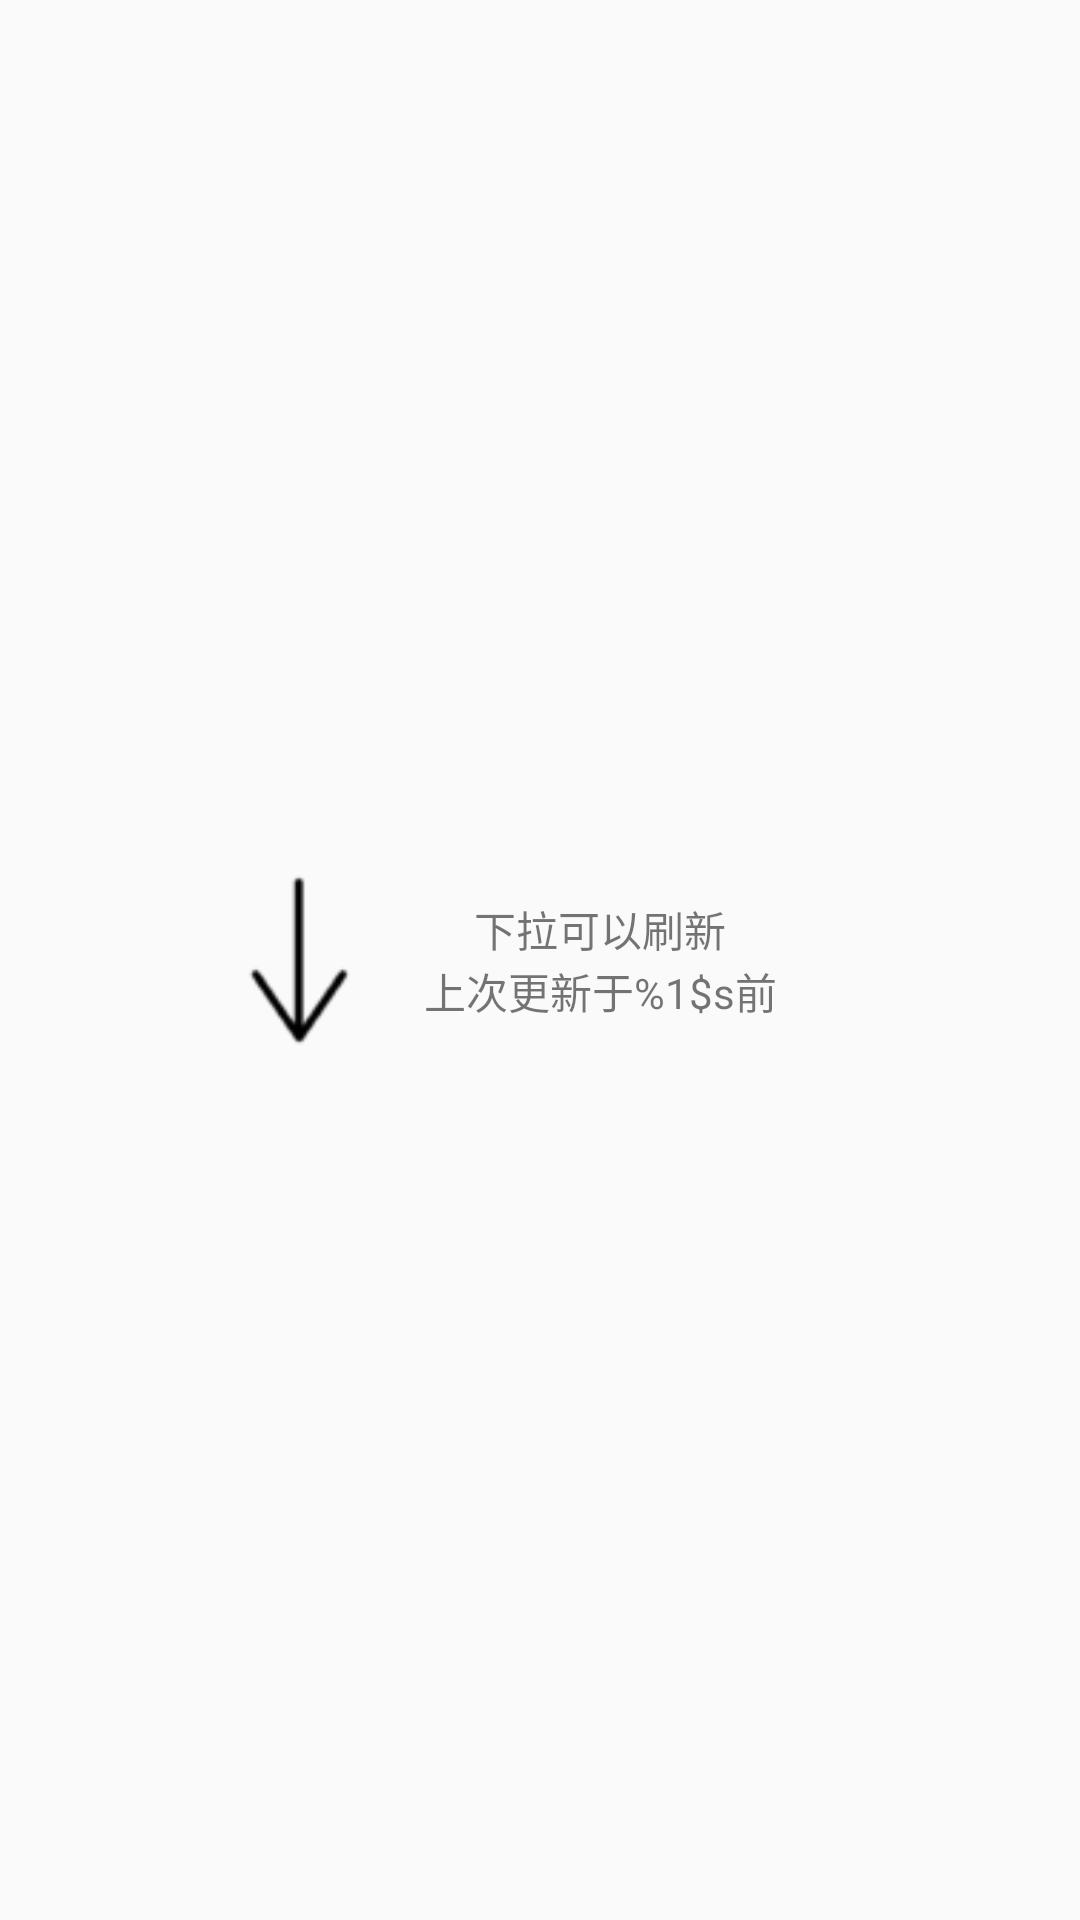

Where icons sit on this 1080*1920 app screen, as (x1, y1, x2, y2):
arrow: (250, 877, 348, 1043)
